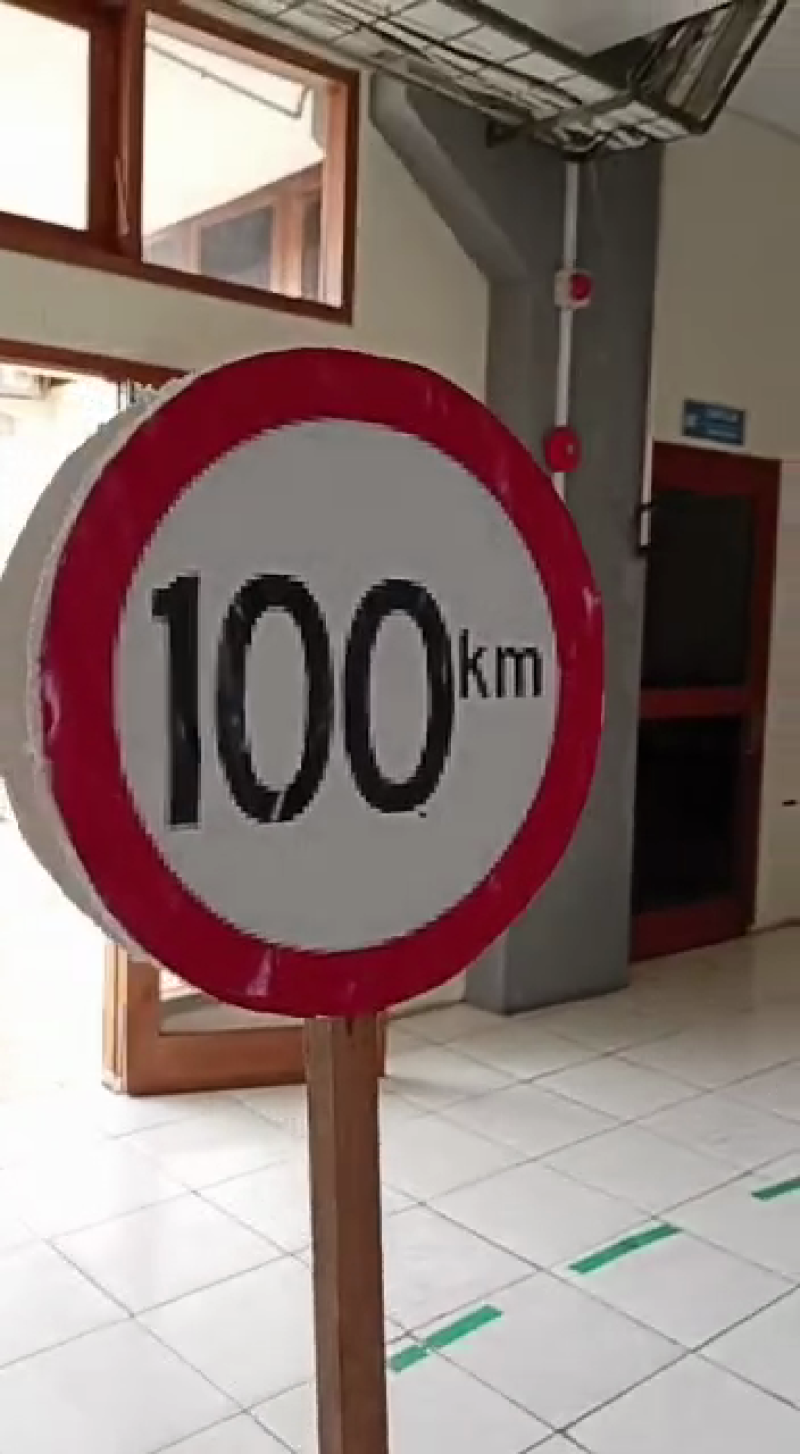batas maksimal 100kmperjam: (39, 331, 600, 1037)
